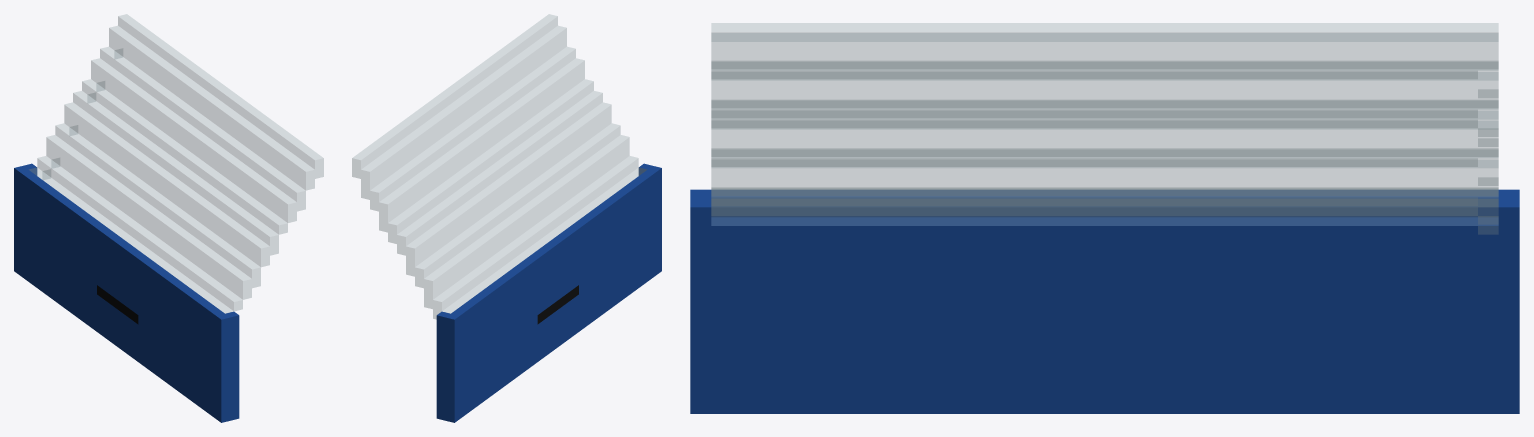
Rendered from crashed_hatchback_tailgate.glb.
The picture shows the model from 3 angles, left to right: view 1: azimuth 30°, elevation 25°; view 2: azimuth 150°, elevation 25°; view 3: azimuth 270°, elevation 25°; orthographic projection. The views are drawn at different scales.
Visible parts, largest first — view 1: body:compound; view 2: body:compound; view 3: body:compound.
Boxes of the visible parts, box(x1,y1,x2,y2) form: body:compound: box(14, 14, 323, 422); body:compound: box(352, 14, 661, 422); body:compound: box(690, 23, 1519, 413).
Bounding box in the file's own units: 0.375 × 0.7812 × 1.25.
